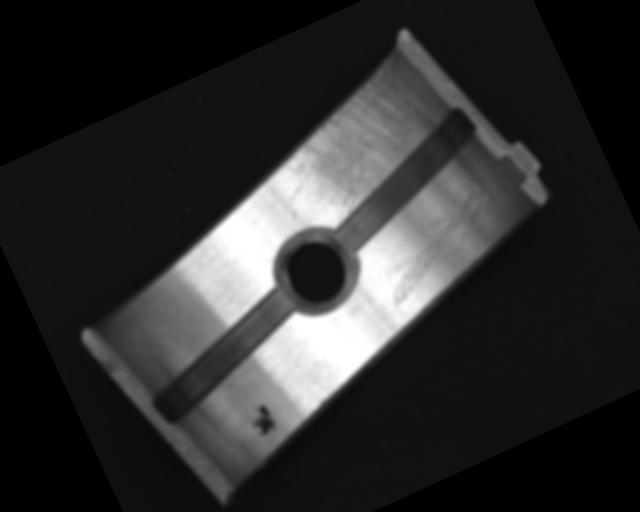blot: (241, 398, 282, 443)
gap: (304, 101, 502, 259), (131, 285, 321, 430)
hole: (268, 226, 364, 322)
nick: (362, 184, 510, 307)
scratch: (251, 48, 462, 245)
